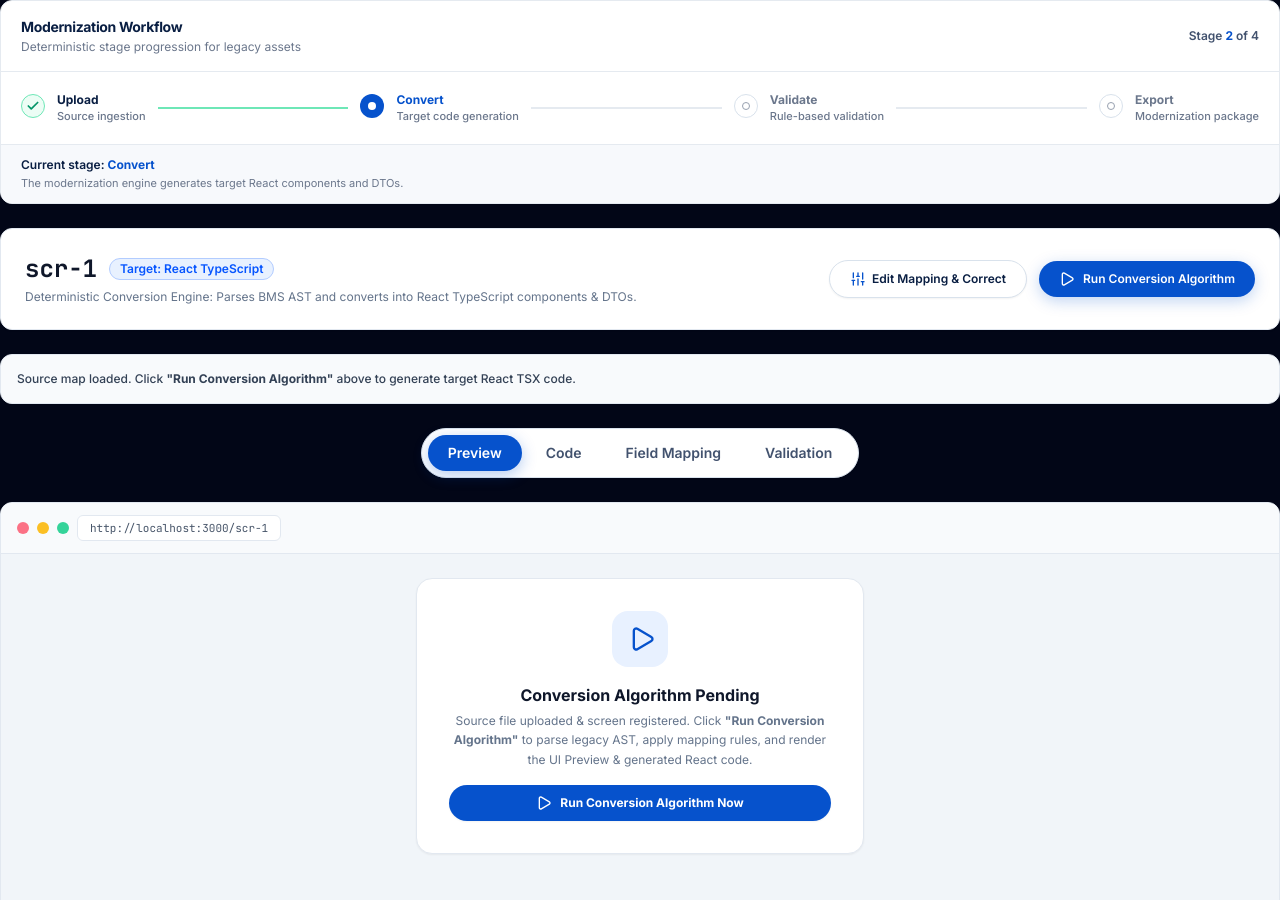
Test: ConvertScreenPage - Field Mapping tab (UC-98) › shows an honest message instead of any data before the screen has been converted
Click the button "Field Mapping": (673, 453) [606,435,741,471]
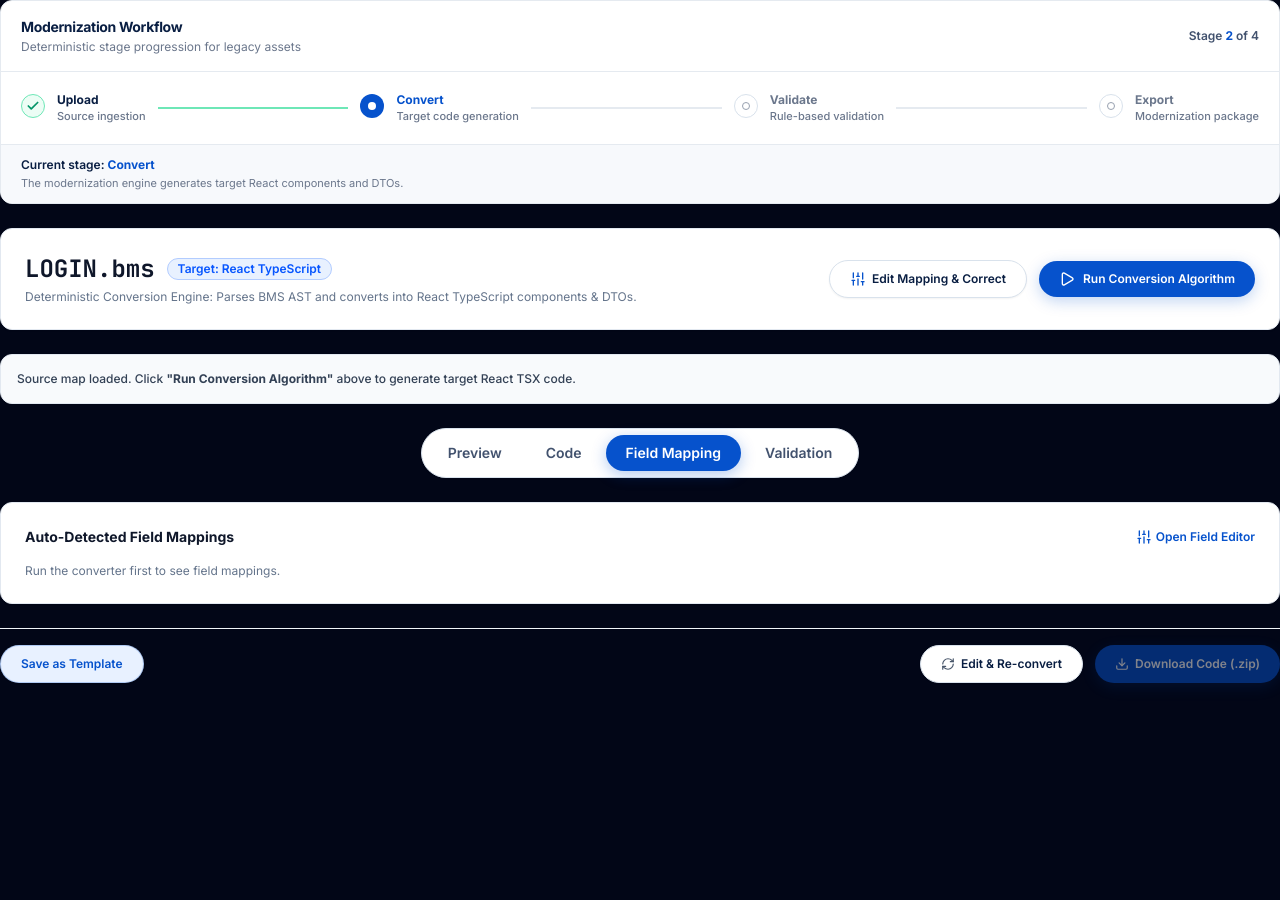
Expected: the text "Run the converter first to see field mappings." is shown, [25,563,280,578]
